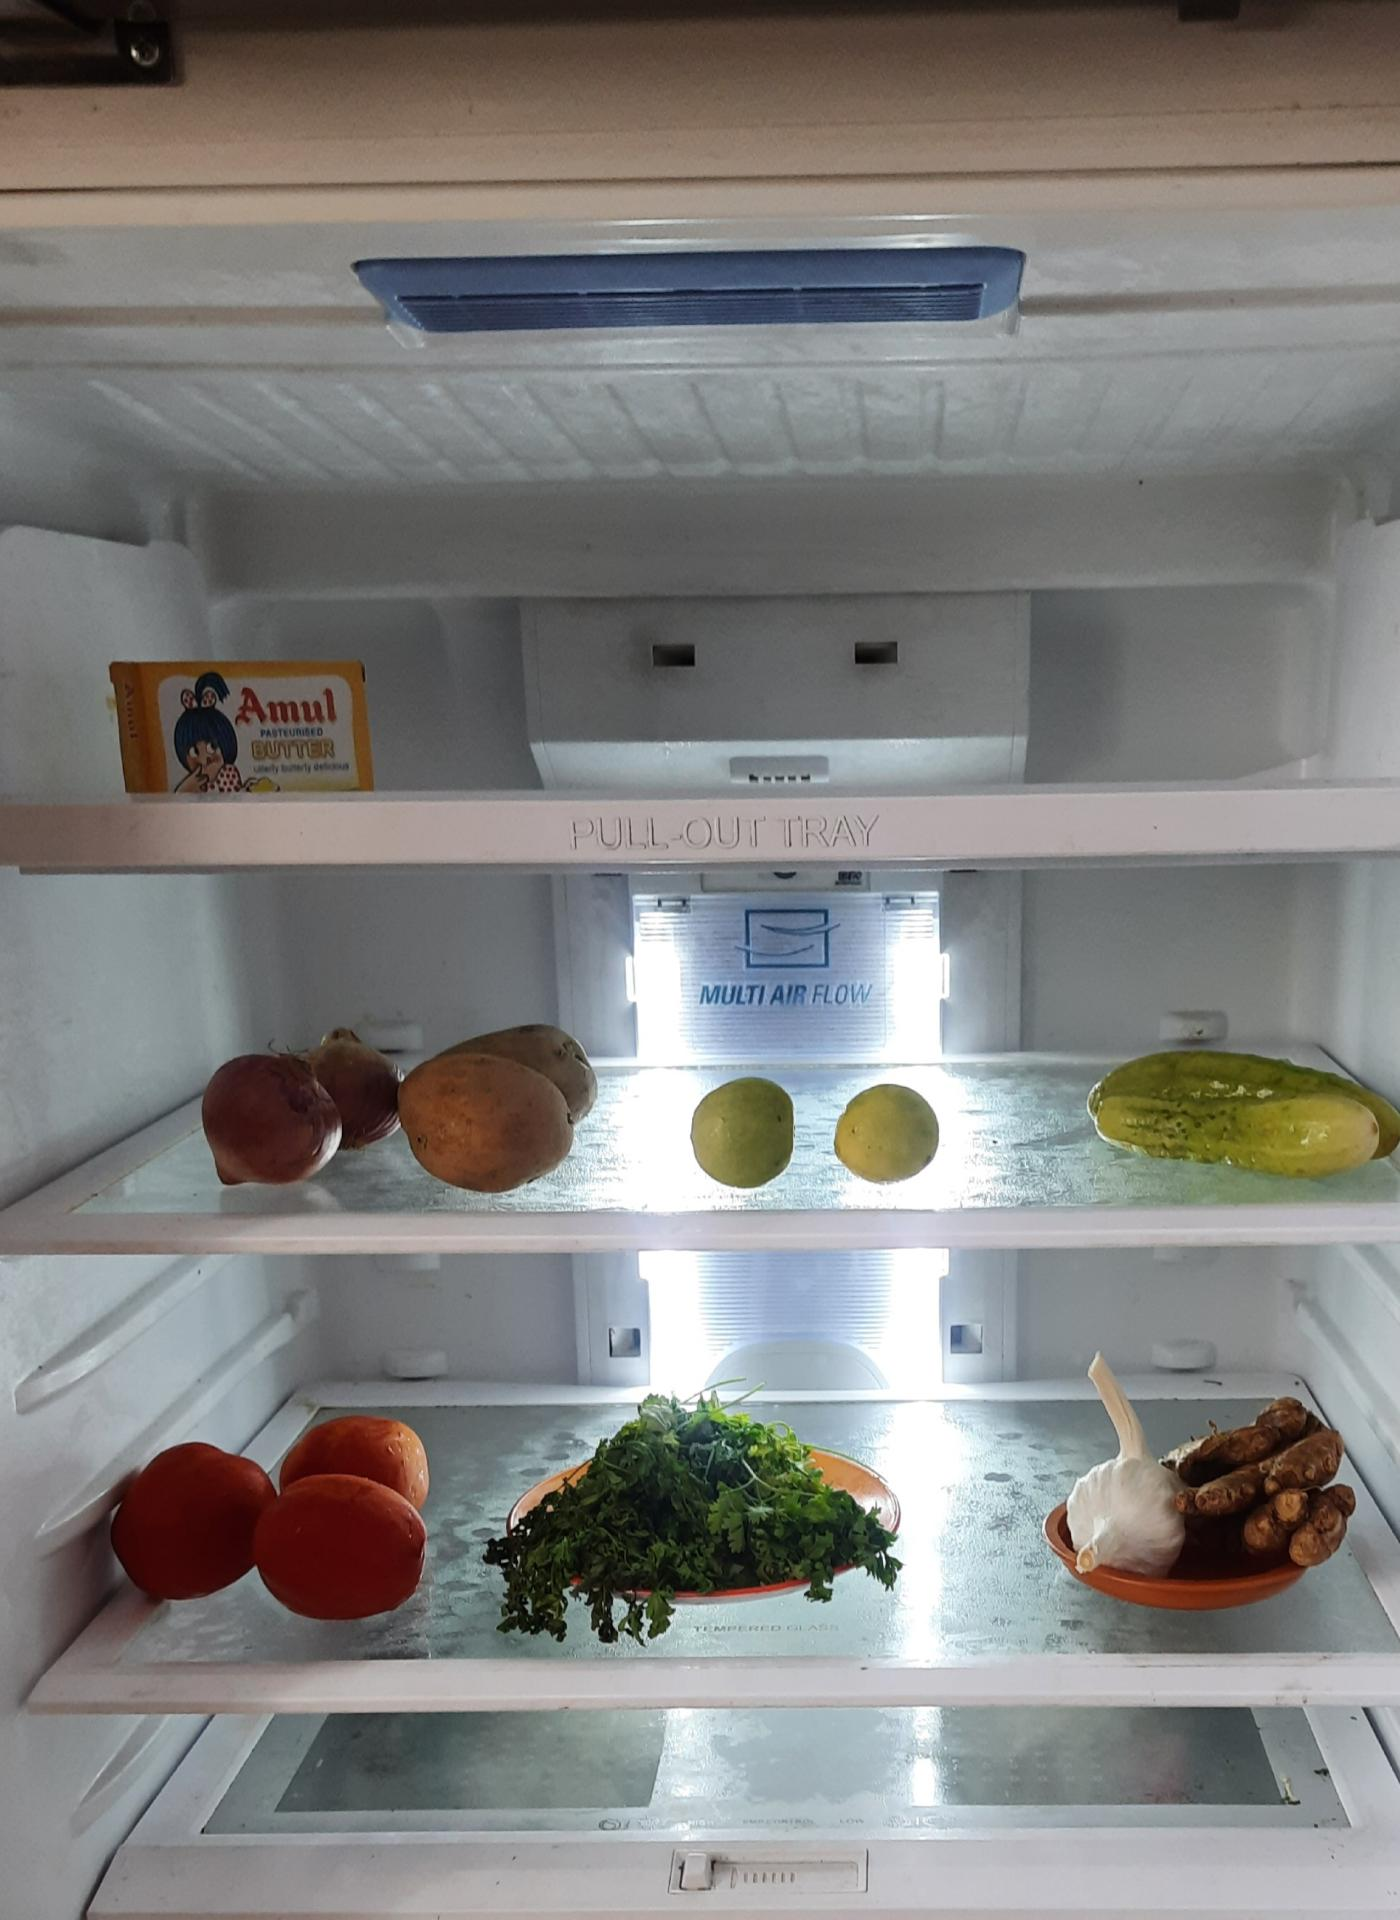butter: (112, 648, 377, 798)
carrots: (404, 1032, 602, 1199)
coriander: (491, 1380, 893, 1613)
cucumber: (1081, 1043, 1394, 1179)
garlic: (1057, 1343, 1184, 1576)
ginger: (1188, 1373, 1360, 1588)
lemon: (690, 1064, 802, 1184), (830, 1073, 945, 1176)
onion: (200, 1018, 394, 1173)
tomato: (116, 1410, 435, 1620)
